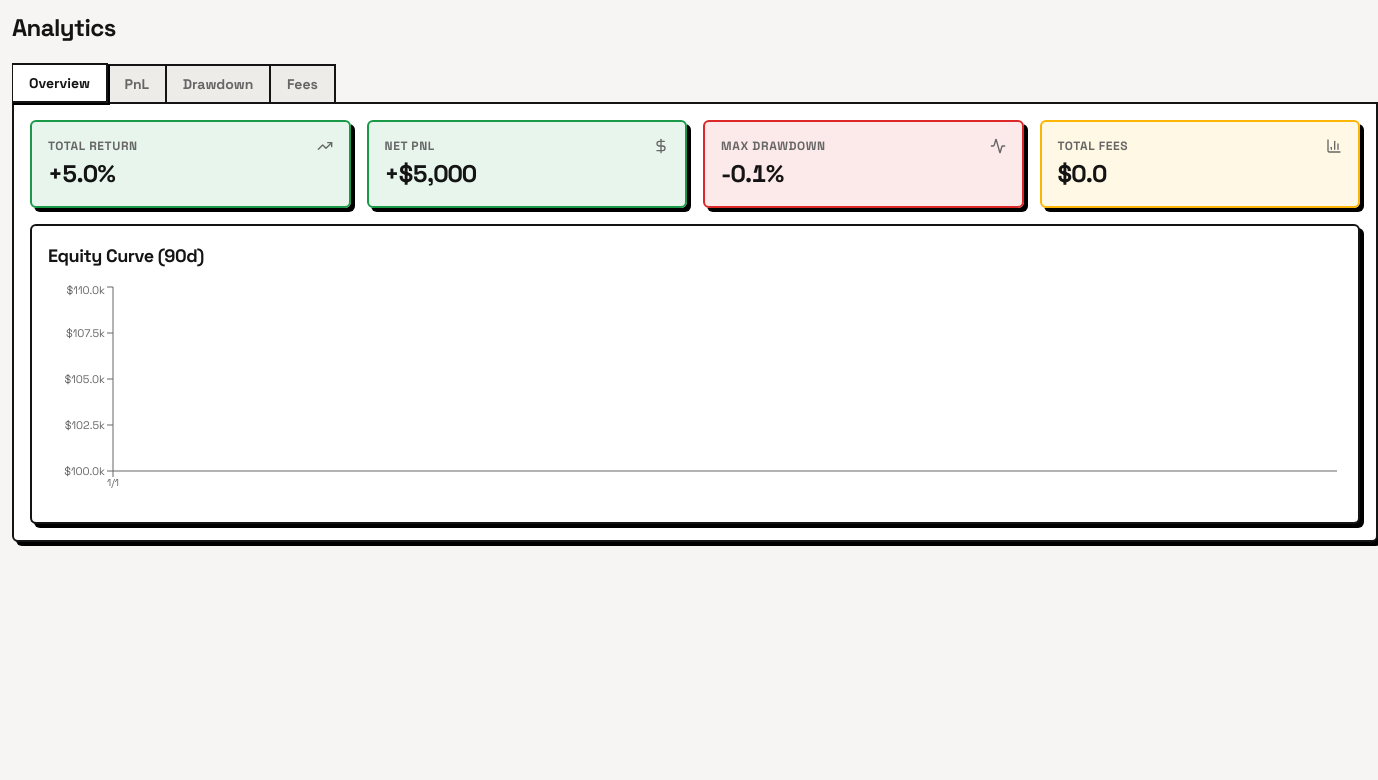
AnalyticsPage › Fees Tab › shows loading state in Fees tab
The width and height of the screenshot is (1378, 780).
Click the button "Fees".
click(302, 84)  # box [269, 64, 336, 104]
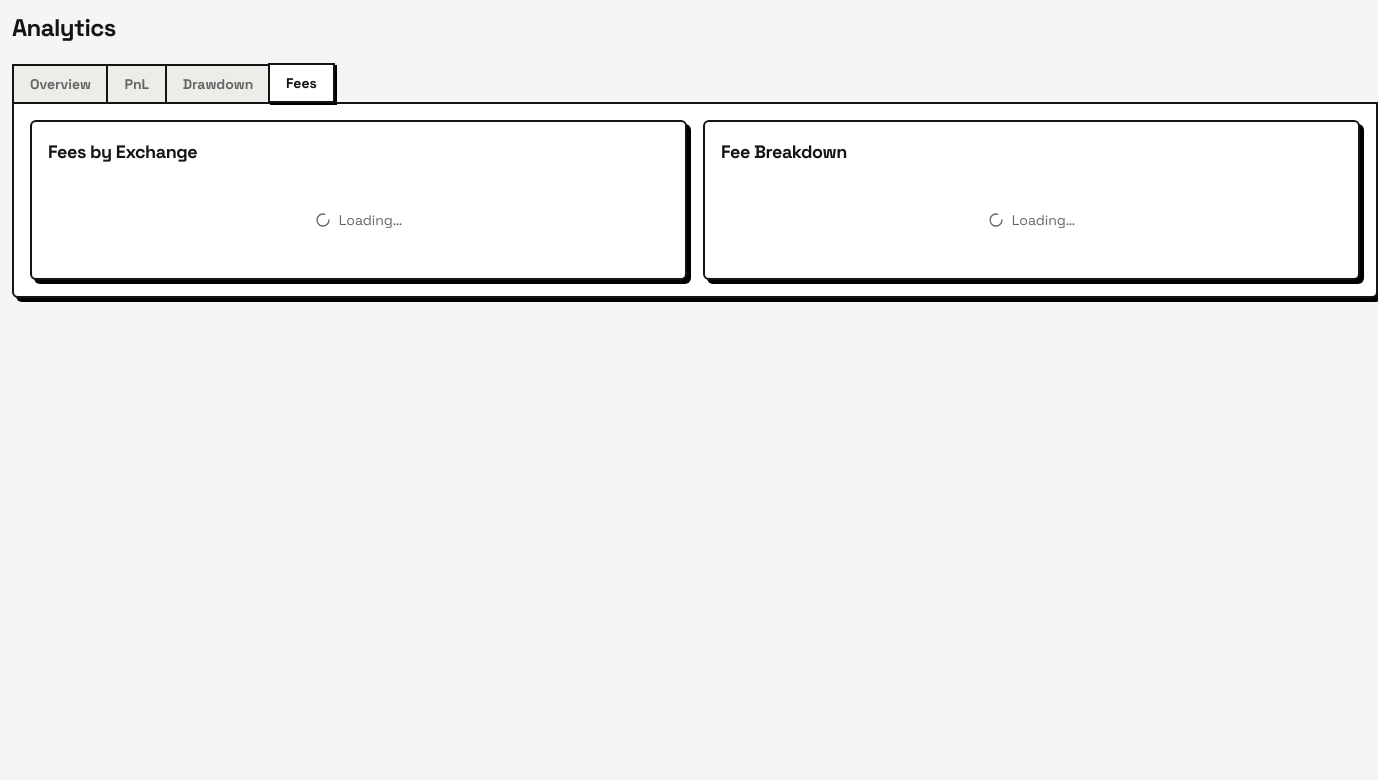
Result: the text "Loading…" below "Fees by Exchange" is shown at [339, 210, 402, 228]
